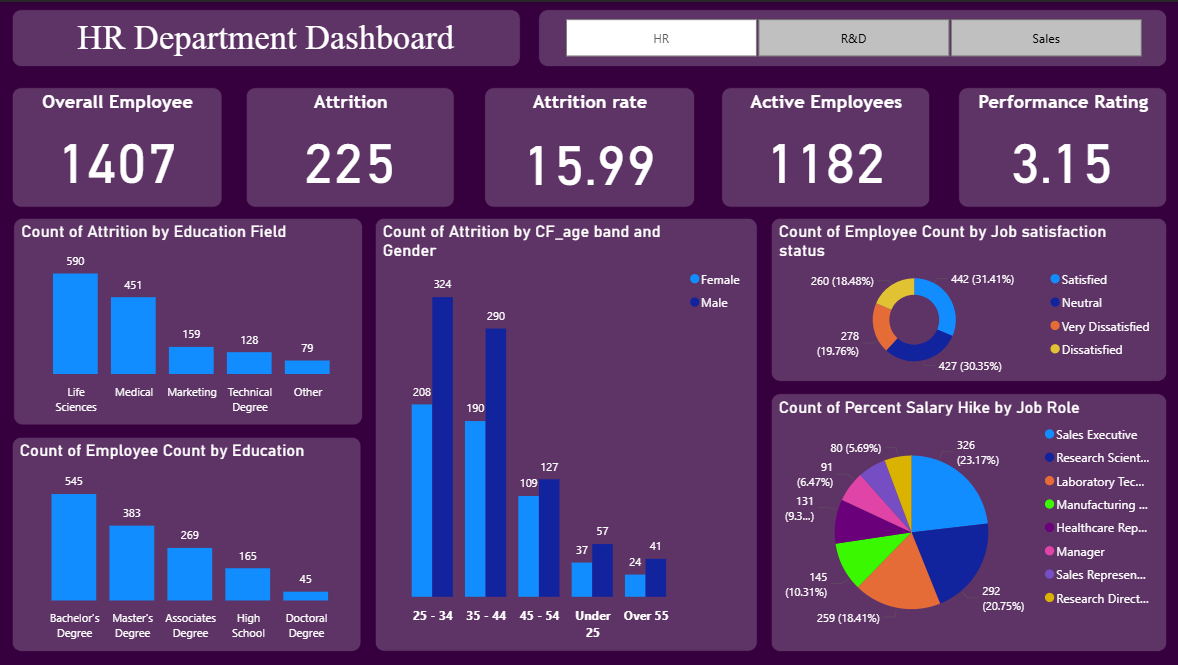

The page's visual inventory and layout, read from the dashboard file:
{"tool":"powerbi","page":{"name":"Page 1","canvas":[1280,720],"ordinal":0},"visuals":[{"type":"clusteredColumnChart","fields":{"Category":["HR data.Education"],"Y":["CountNonNull(HR data.Employee Count)"]},"box":[13,471.7,379,232.6],"z":0},{"type":"textbox","box":[13,8.1,551.4,61.8],"z":1000},{"type":"clusteredColumnChart","fields":{"Category":["HR data.Education Field"],"Y":["CountNonNull(HR data.Attrition)"]},"box":[14.6,234.2,379,224.5],"z":2000},{"type":"donutChart","fields":{"Category":["HR data.Job satisfaction status"],"Y":["CountNonNull(HR data.Employee Count)"]},"box":[836,234.2,429.4,177.3],"z":3000},{"type":"clusteredColumnChart","fields":{"Category":["HR data.CF_age band"],"Y":["CountNonNull(HR data.Attrition)"],"Series":["HR data.Gender"]},"box":[406.6,234.2,414.8,470.1],"z":4000},{"type":"slicer","fields":{"Values":["HR data.Department"]},"box":[583.9,8.1,681.5,61.8],"z":5000},{"type":"card","title":"Attrition","fields":{"Values":["Sum(HR data.Attrition count)"]},"box":[266.8,92.7,226.1,130.1],"z":6000},{"type":"card","title":"Attrition rate","fields":{"Values":["All measures.Attrition Rate"]},"box":[525.4,92.7,227.7,130.1],"z":7000},{"type":"card","title":"Active Employees ","fields":{"Values":["All measures.Active Employees"]},"box":[782.4,92.7,226.1,130.1],"z":8000},{"type":"card","title":"Performance Rating","fields":{"Values":["Avg(HR data.Performance Rating)"]},"box":[1039.4,92.7,226.1,130.1],"z":9000},{"type":"card","title":"Overall Employee","fields":{"Values":["Sum(HR data.Employee Count)"]},"box":[13,92.7,227.7,130.1],"z":10000},{"type":"pieChart","fields":{"Y":["CountNonNull(HR data.Percent Salary Hike)"],"Category":["HR data.Job Role"]},"box":[836,424.5,429.4,279.8],"z":11000}]}

Visuals, with their boxes in screenshot pixels (x1, y1, x2, y2), scaled from the page's 1280x720 canvas onto the 1178x665 screenshot:
clusteredColumnChart - HR data.Education x CountNonNull(HR data.Employee Count): crop(12, 436, 361, 650)
textbox: crop(12, 7, 519, 65)
clusteredColumnChart - HR data.Education Field x CountNonNull(HR data.Attrition): crop(13, 216, 362, 424)
donutChart - HR data.Job satisfaction status x CountNonNull(HR data.Employee Count): crop(769, 216, 1165, 380)
clusteredColumnChart - HR data.CF_age band x CountNonNull(HR data.Attrition): crop(374, 216, 756, 650)
slicer - HR data.Department: crop(537, 7, 1165, 65)
"Attrition" card: crop(246, 86, 454, 206)
"Attrition rate" card: crop(484, 86, 693, 206)
"Active Employees " card: crop(720, 86, 928, 206)
"Performance Rating" card: crop(957, 86, 1165, 206)
"Overall Employee" card: crop(12, 86, 222, 206)
pieChart - CountNonNull(HR data.Percent Salary Hike) x HR data.Job Role: crop(769, 392, 1165, 650)
